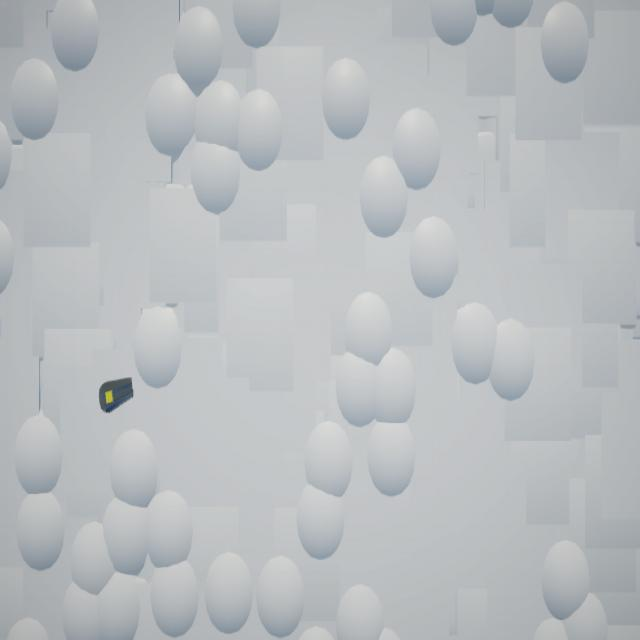handle_folk: (100, 378, 135, 414)
